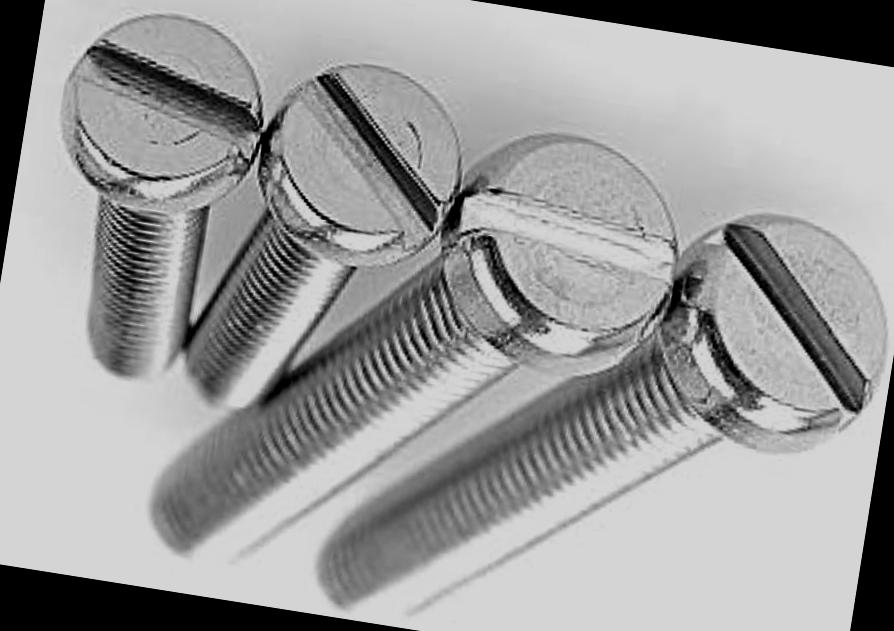slotted: (426, 122, 692, 392), (640, 193, 894, 469), (250, 48, 476, 280), (50, 0, 277, 226)
